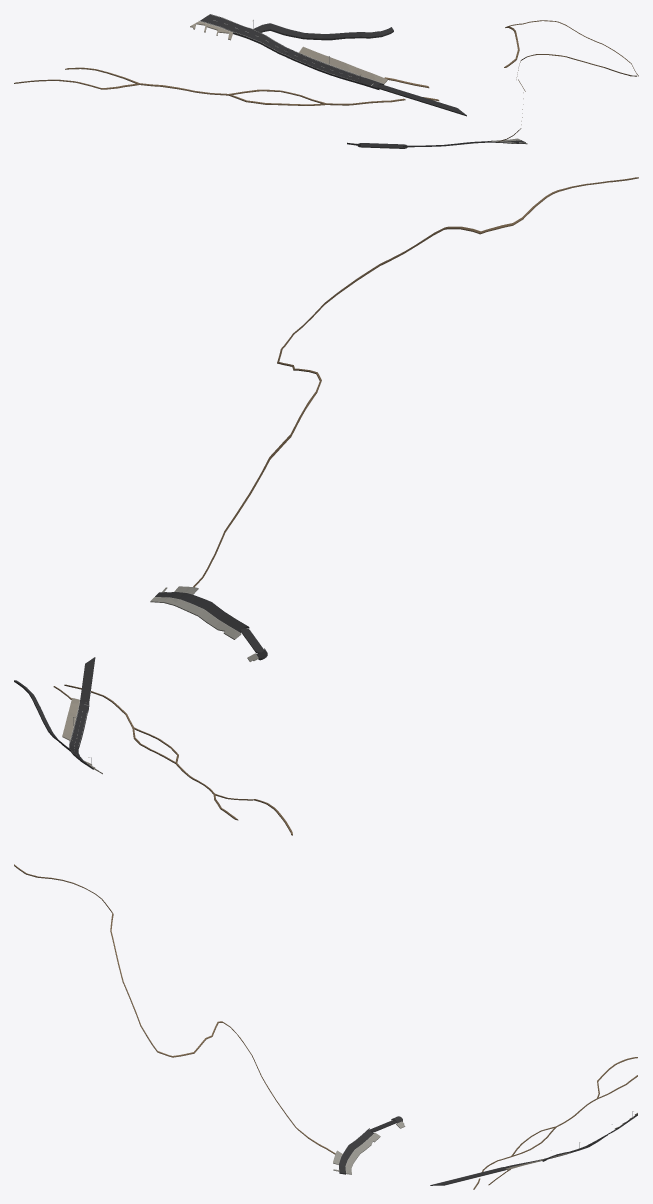
3 renders of one model, top to bottom at view 1: azimuth 30°, elevation 25°; view 2: azimuth 150°, elevation 25°; view 3: azimuth 270°, elevation 25°, orthographic. The views are drawn at different scales.
Bounding box in the file's own units: 264 × 246 × 584.
